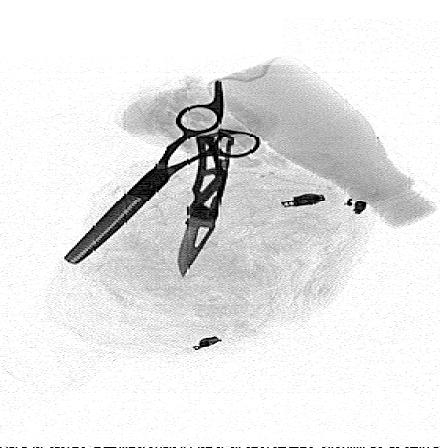Knife: (176, 132, 234, 279)
Scissors: (63, 79, 261, 266)
